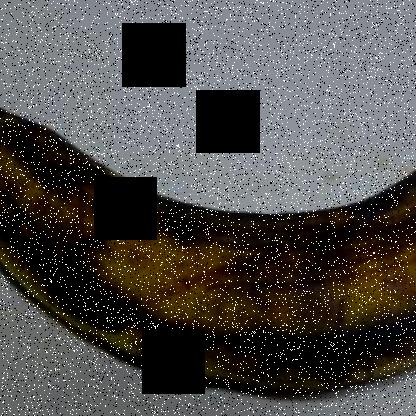overripe: (0, 92, 415, 415)
